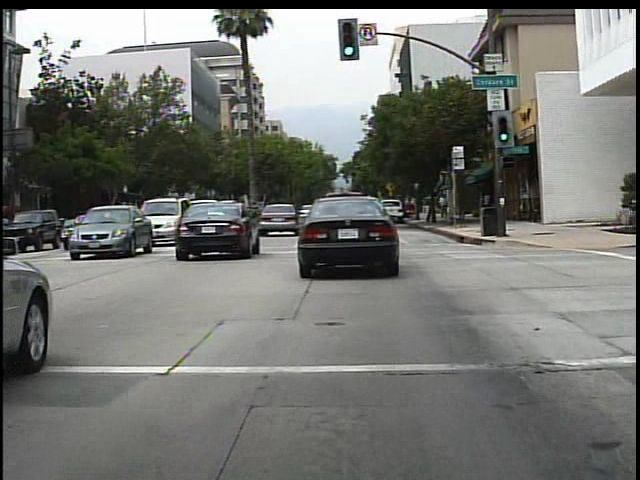person: (434, 191, 453, 225)
